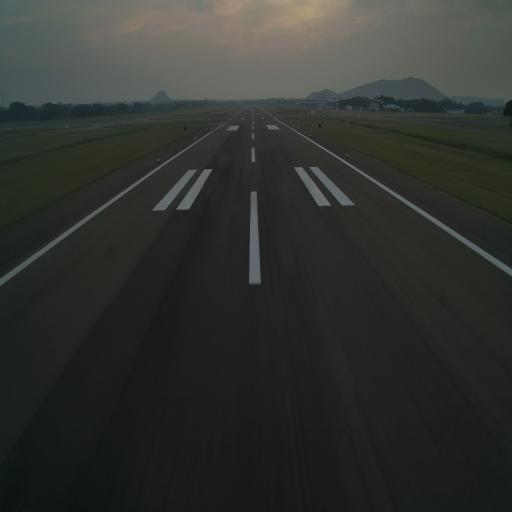on: (156, 156, 162, 165), (346, 152, 350, 159)
